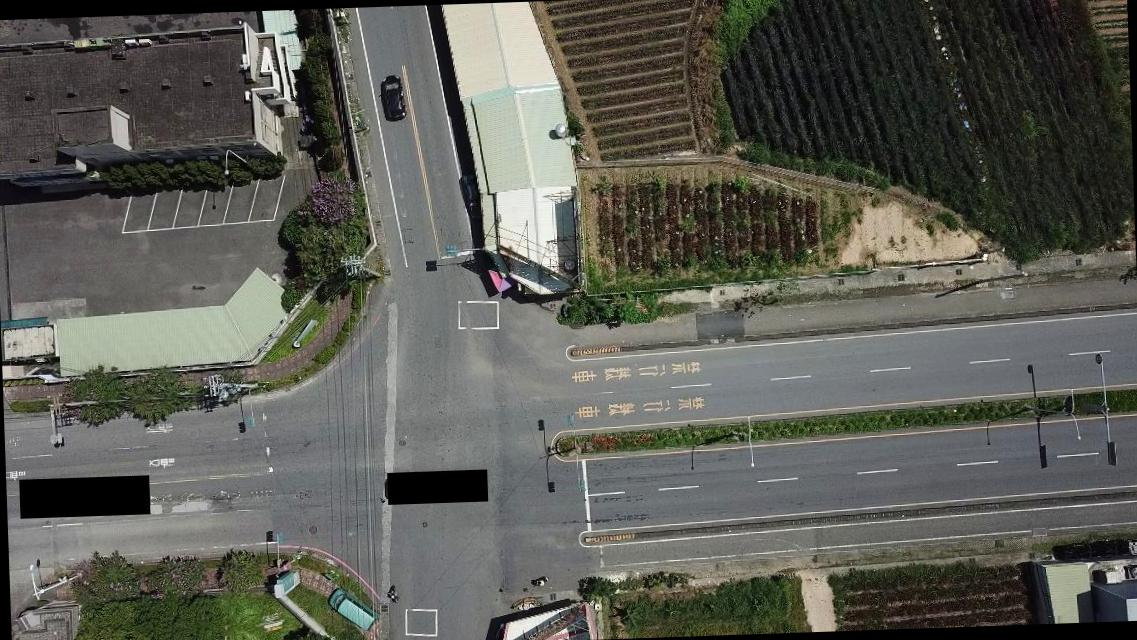vehicle: (326, 588, 380, 630), (380, 74, 407, 122)
